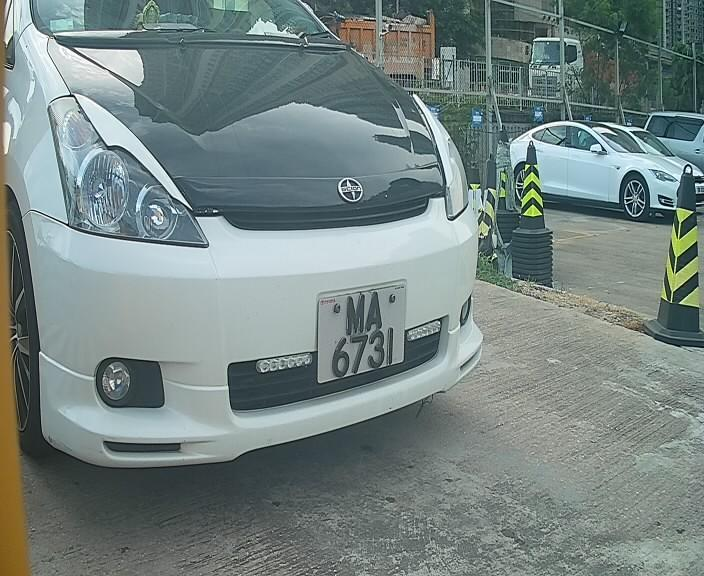privatecar: (10, 6, 510, 474)
